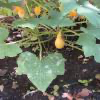Squash Powdery mildew leaf: (16, 51, 66, 92), (0, 27, 22, 56), (78, 34, 99, 61), (79, 26, 99, 40)
